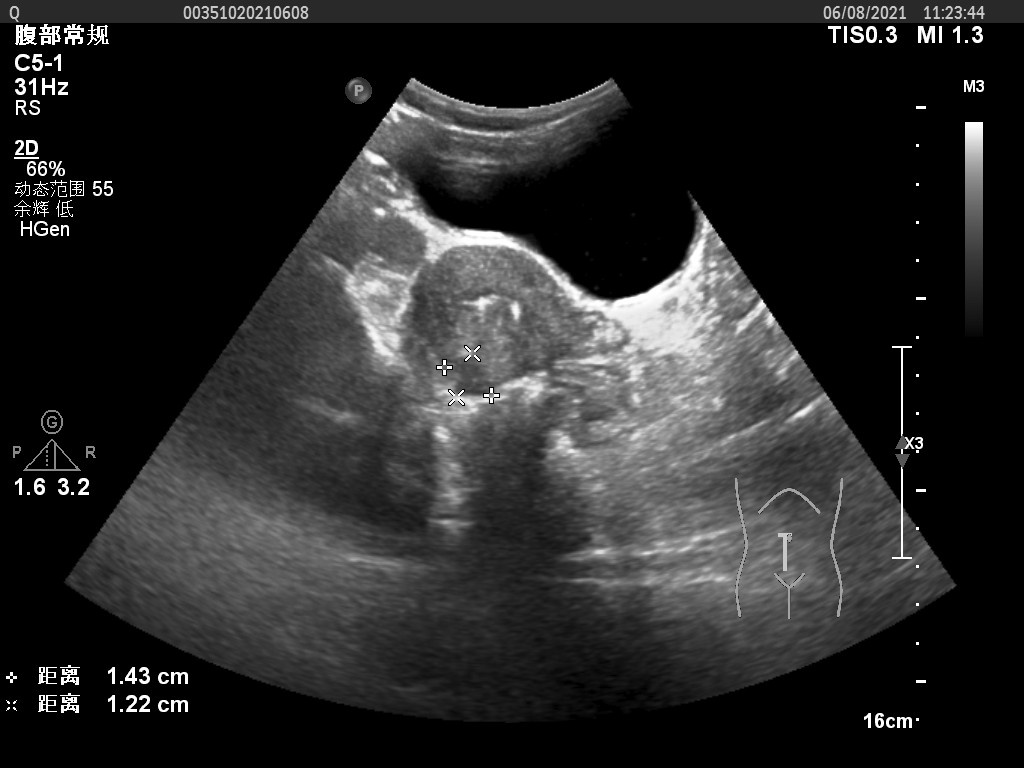肌瘤: (449, 365, 487, 404)
